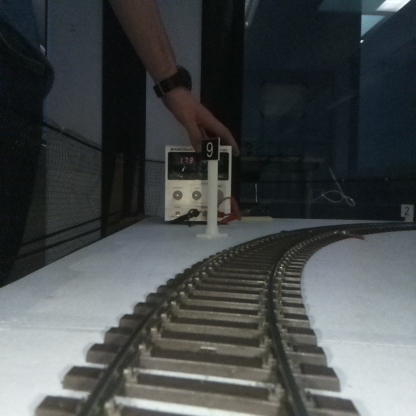black-info-9: (201, 138, 218, 236)
